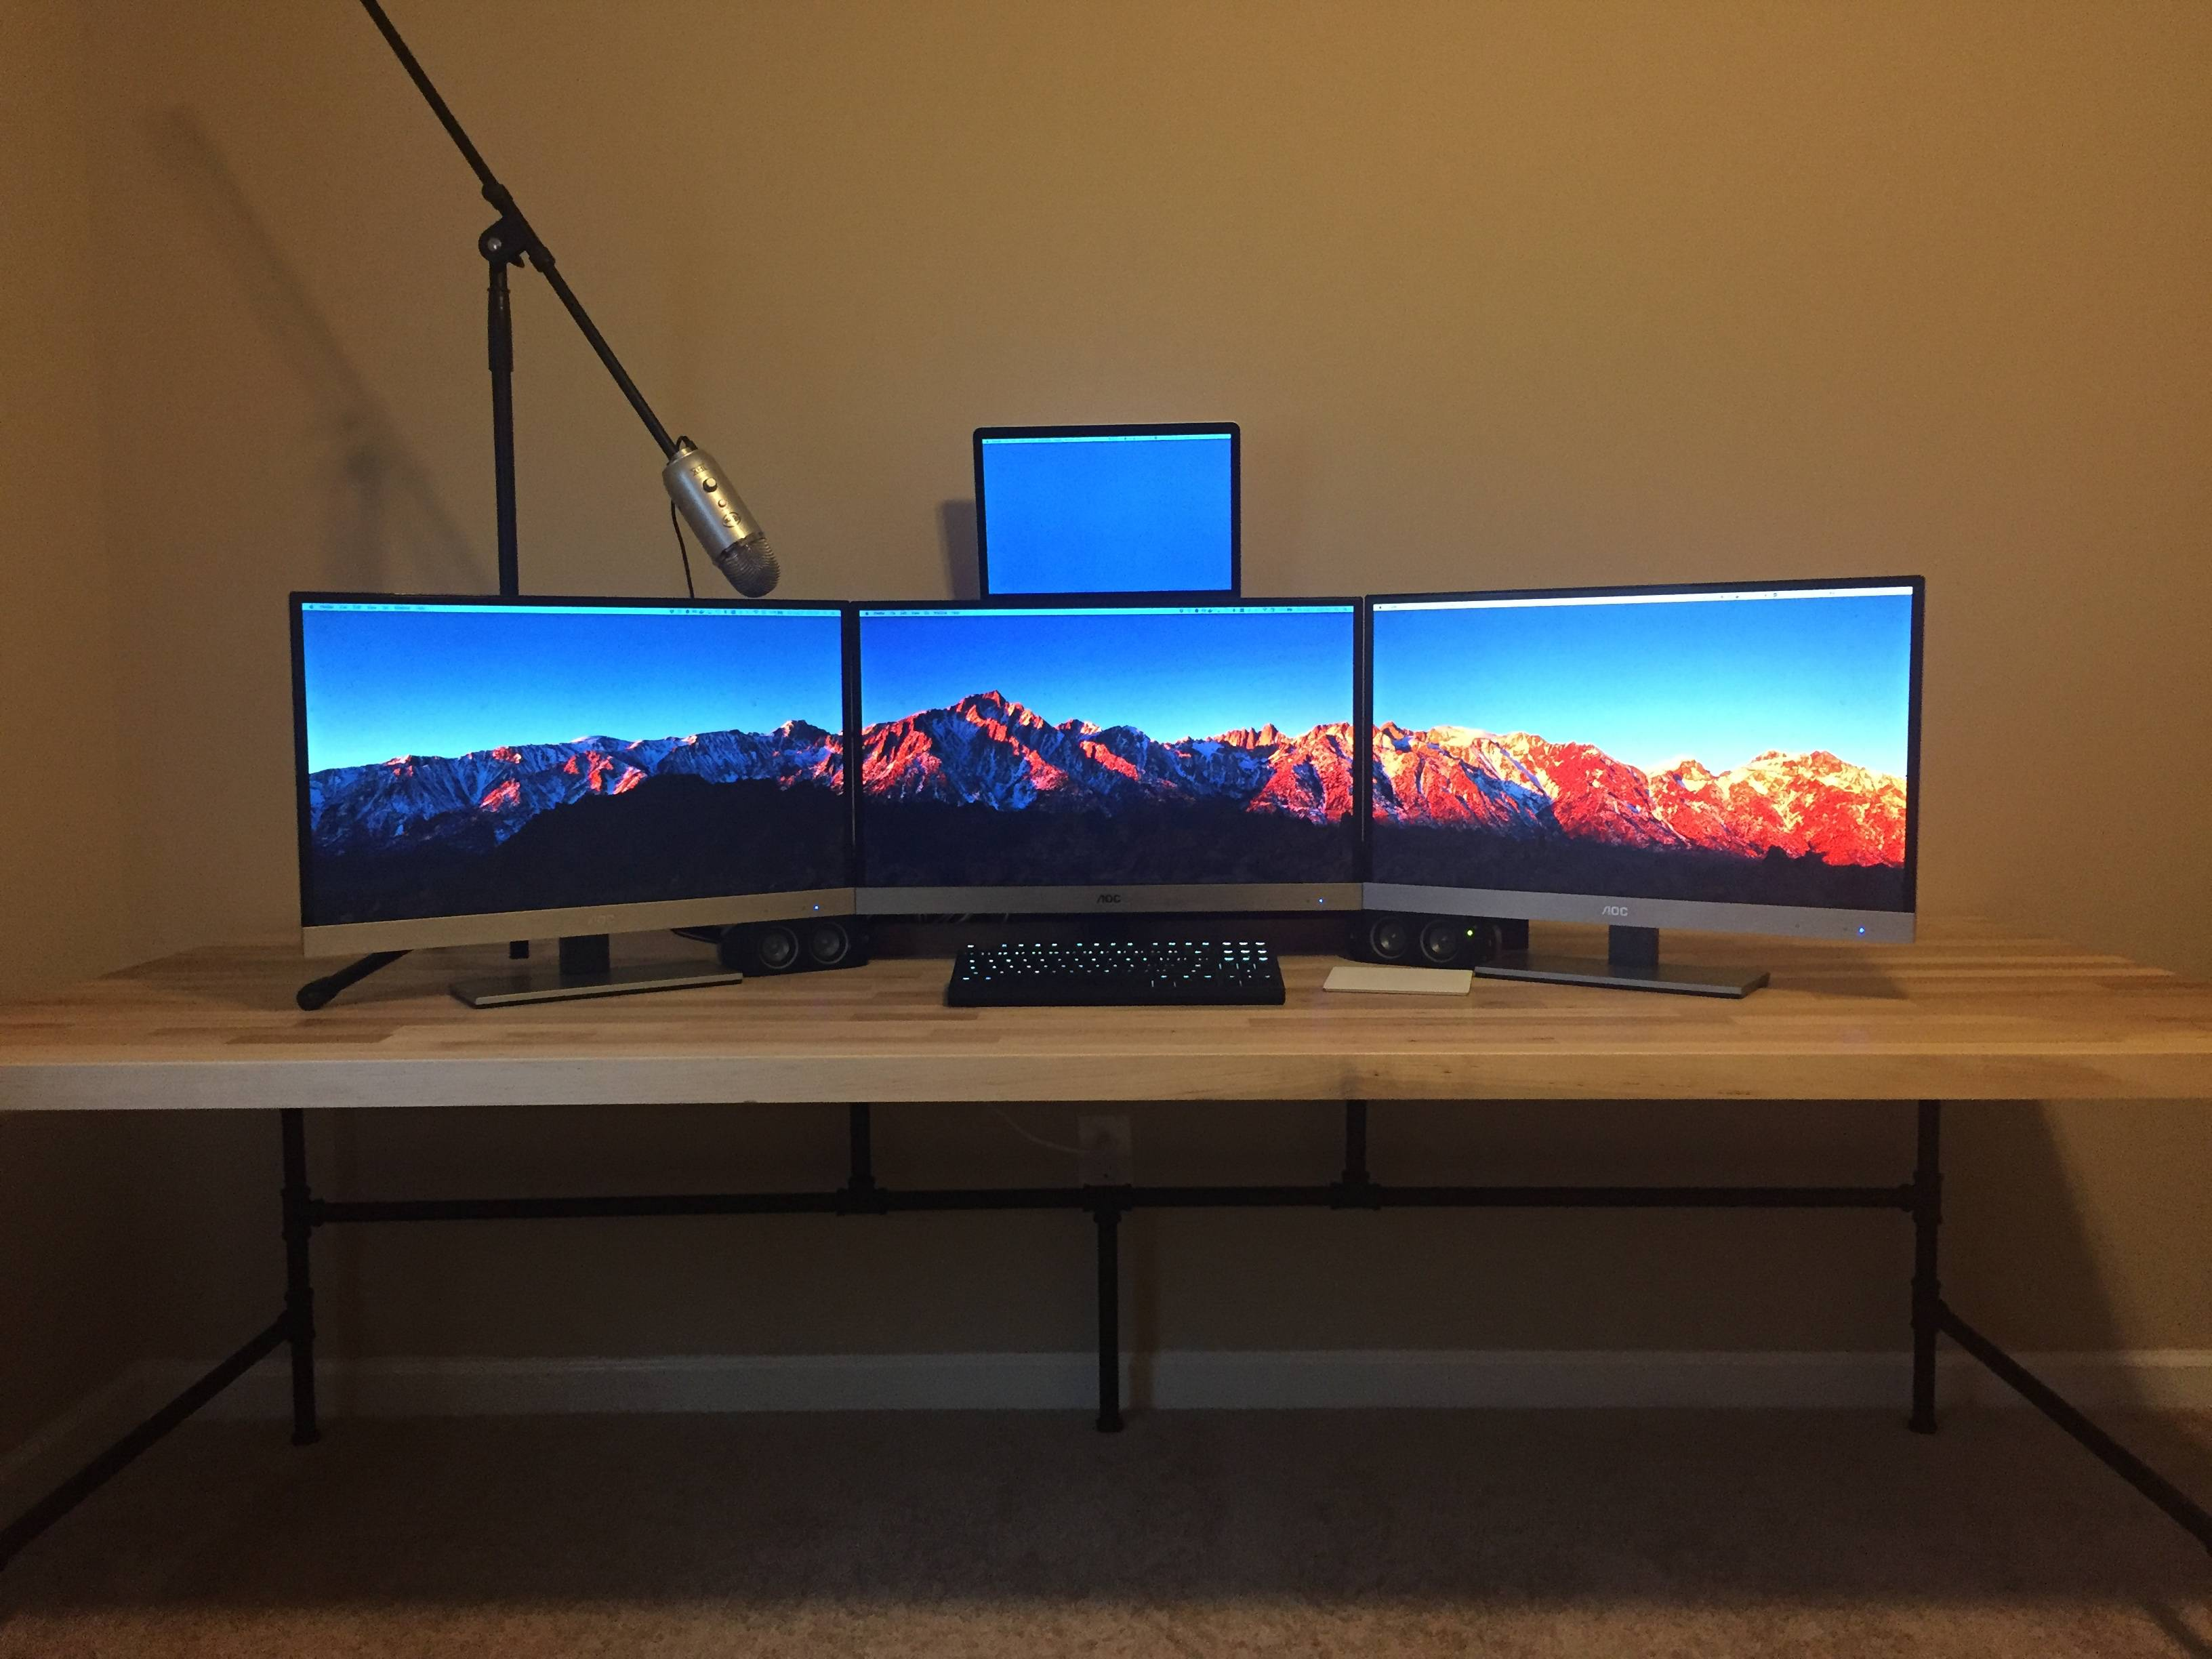Desk (Standing): (2, 925, 2212, 1603)
External Microphone (with Boom Arm): (354, 0, 782, 601)
External Speakers (Generic): (1336, 918, 1503, 969), (725, 927, 867, 981)
Keyboard (Generic): (948, 934, 1287, 1009)
Monitor (Landscape): (291, 591, 852, 1009), (1366, 575, 1923, 993), (852, 599, 1364, 931), (975, 423, 1240, 601)
Mouse (Magic Trackpad): (1322, 967, 1479, 1004)
